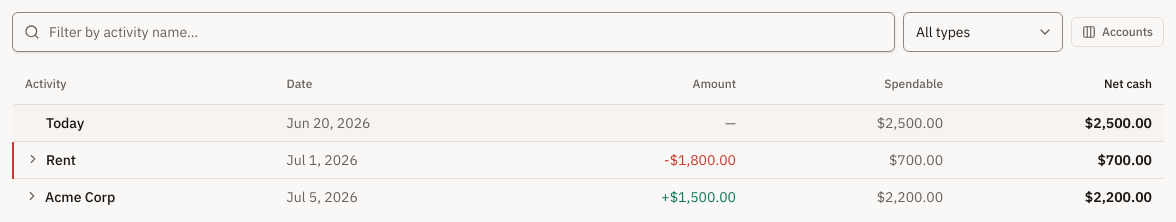
Test: ProjectedActivityTable › shows a muted no-match row when the filter hides every activity
Type "zzz" into the search field named "filter projected activity" at (454, 32), box top-left (12, 12), bottom-right (895, 52)
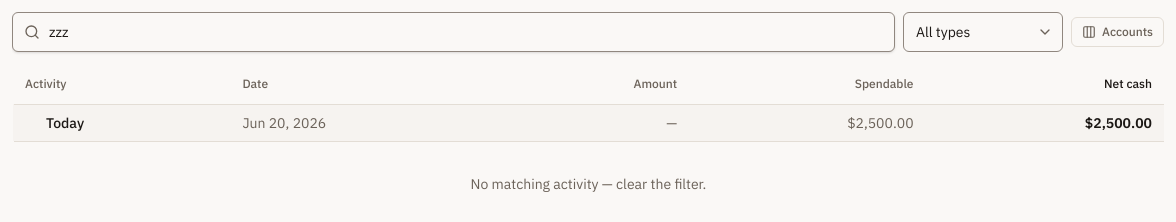
Expected: the text "Today" is shown, top-left (46, 114), bottom-right (84, 132)
Result: the text "No matching activity — clear the filter." is shown at top-left (471, 174), bottom-right (706, 192)
